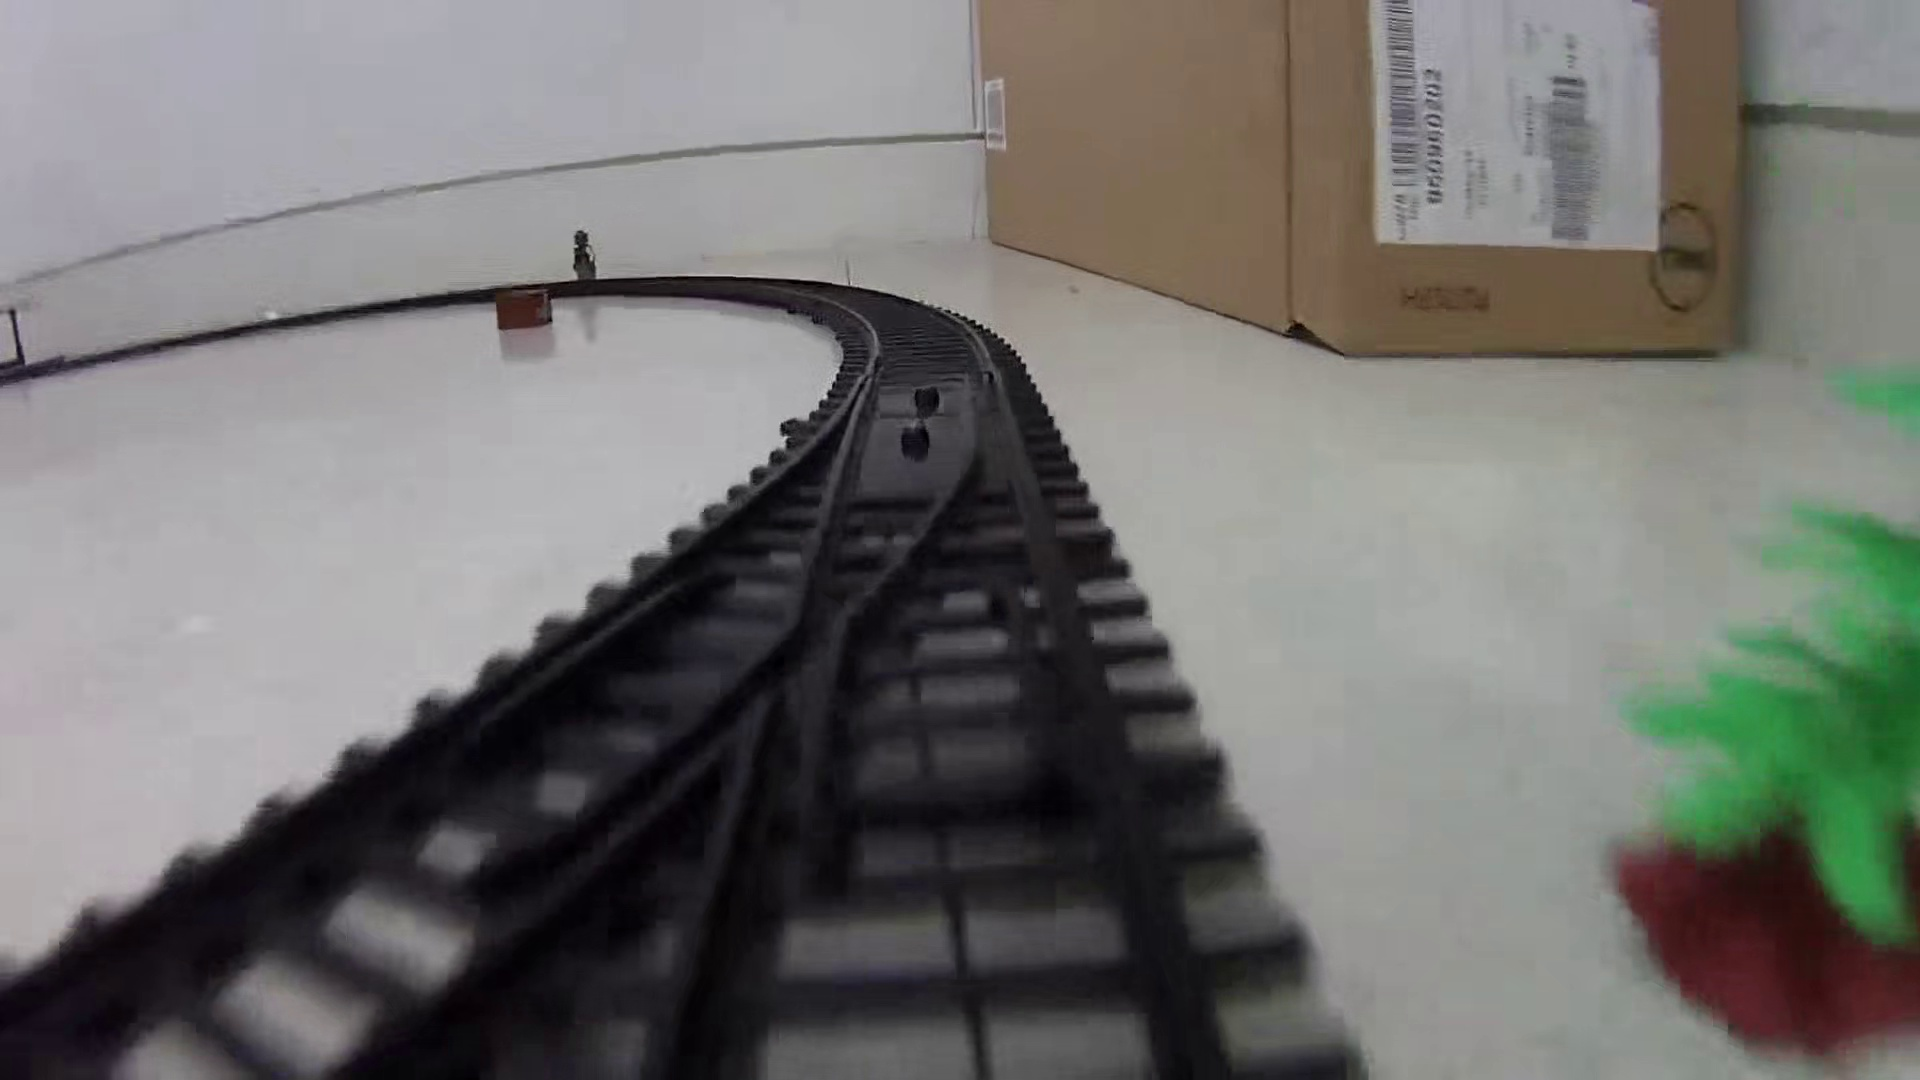box: (492, 284, 555, 336)
people: (569, 227, 596, 285)
